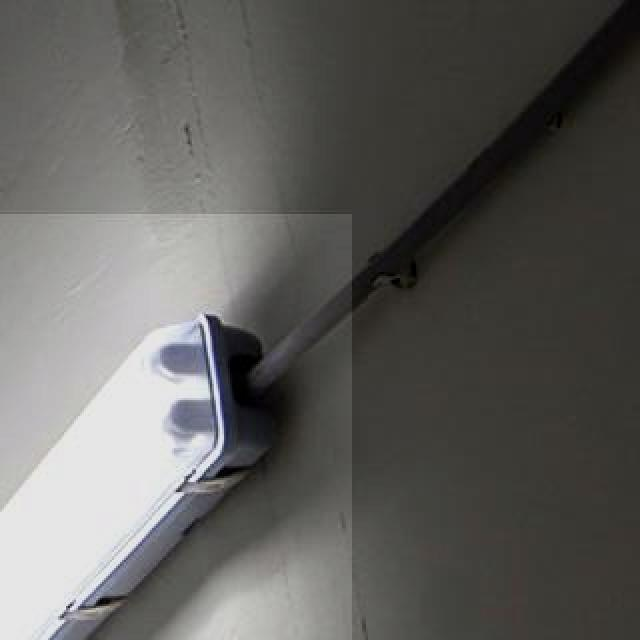fluorescent tube: (0, 288, 286, 640)
